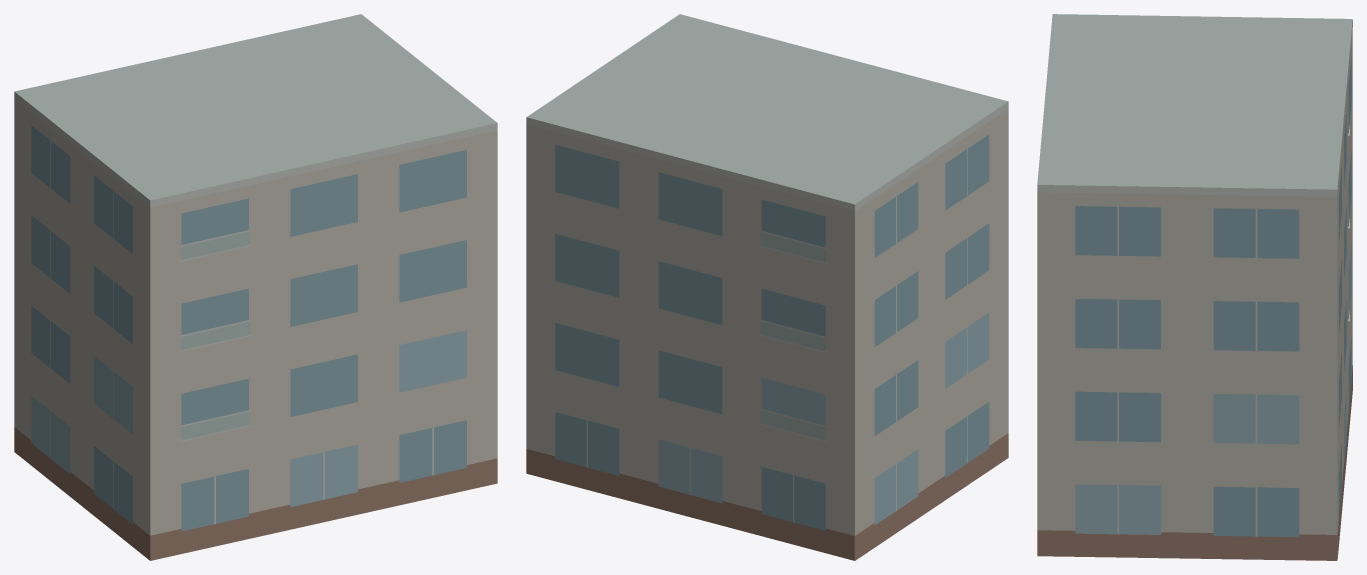
The model's file is residential-677d612f-d3bd-4d82-a2fb-2a09d2526e2d.glb.
3 renders of one model, left to right at view 1: azimuth 30°, elevation 25°; view 2: azimuth 150°, elevation 25°; view 3: azimuth 270°, elevation 25°, orthographic. The views are drawn at different scales.
Parts seen in each view (by area): view 1: residential-677d612f-d3bd-4d82-a2fb-2a09d2526e2d.tmp; view 2: residential-677d612f-d3bd-4d82-a2fb-2a09d2526e2d.tmp; view 3: residential-677d612f-d3bd-4d82-a2fb-2a09d2526e2d.tmp.
Boxes of the visible parts, left/top/right/bottom form: residential-677d612f-d3bd-4d82-a2fb-2a09d2526e2d.tmp: left=14, top=14, right=497, bottom=560; residential-677d612f-d3bd-4d82-a2fb-2a09d2526e2d.tmp: left=526, top=14, right=1008, bottom=560; residential-677d612f-d3bd-4d82-a2fb-2a09d2526e2d.tmp: left=1037, top=14, right=1352, bottom=560.
Size of the model in its own units: 12.38 by 12.2 by 9.41.
